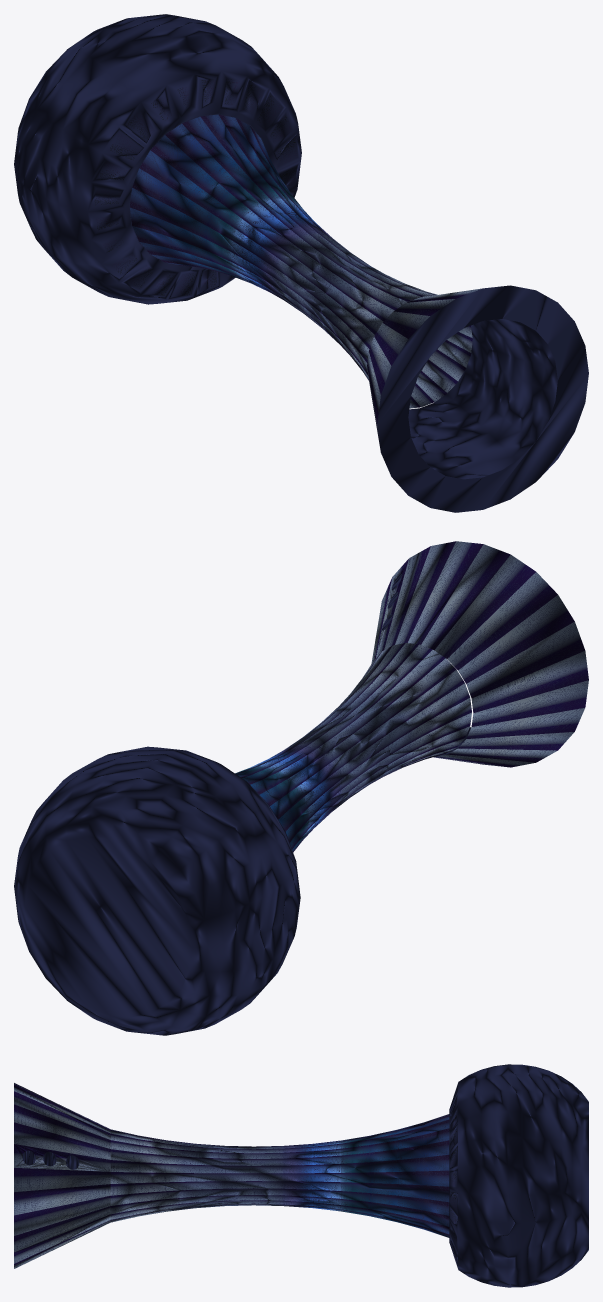
File: model_align.obj
3 views of the same model, one above another, from view 1: azimuth 30°, elevation 25°; view 2: azimuth 150°, elevation 25°; view 3: azimuth 270°, elevation 25° (orthographic). The views are drawn at different scales.
Bounding box in the file's own units: 0.0976 × 0.0976 × 0.2506.
Materials: 3 (3 with a texture image).
